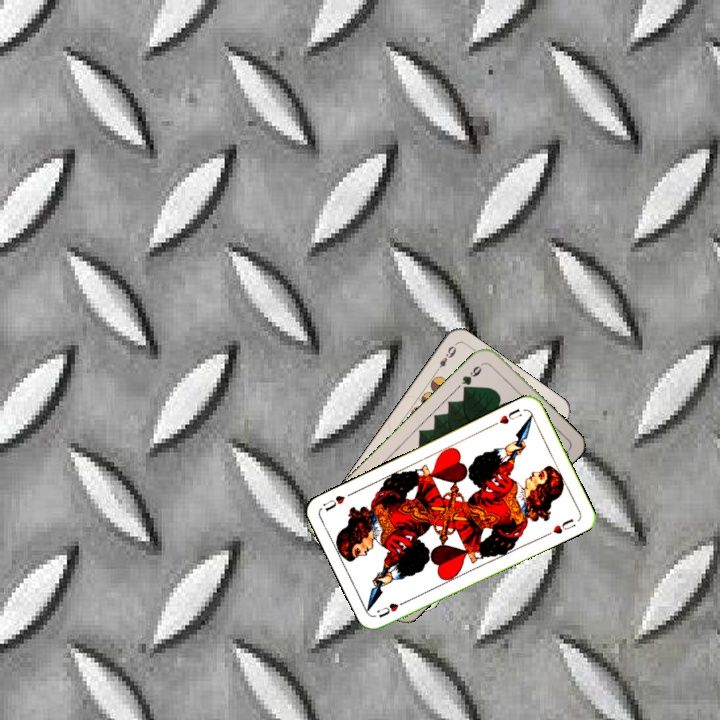E9: (431, 341, 459, 376)
G9: (457, 362, 484, 394)
HU: (373, 596, 410, 620), (489, 404, 524, 428)
